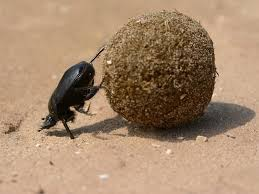Coconut Rhinoceros Beetle: (19, 15, 243, 188)
